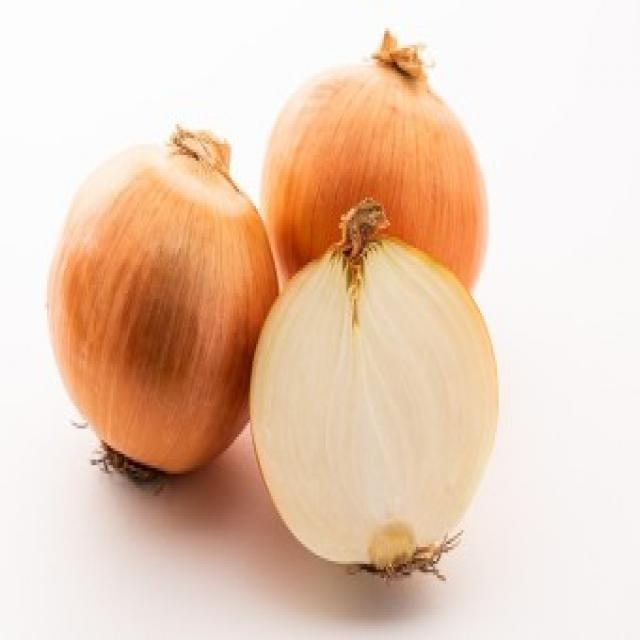onion: (260, 224, 518, 582), (46, 118, 253, 508), (264, 58, 488, 267)
